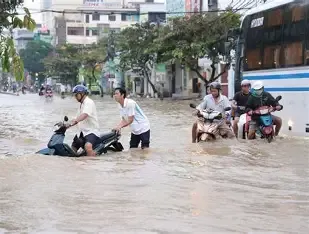ROAD_FLOODING: (3, 90, 306, 234)
